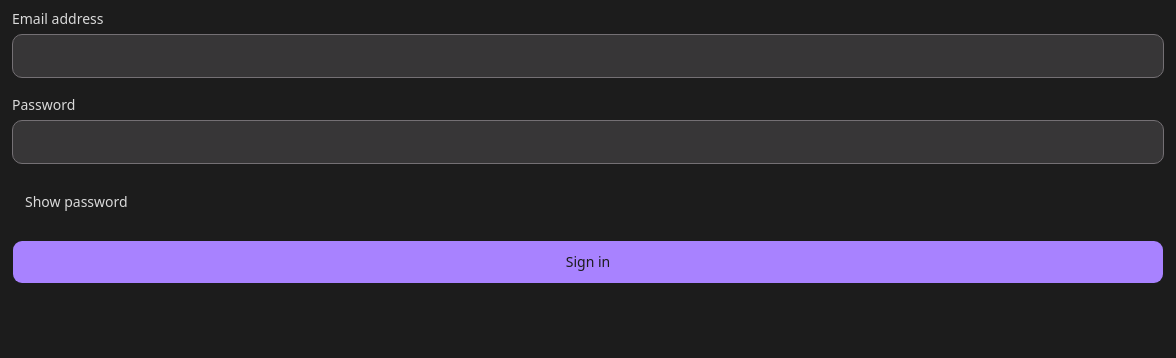
LoginForm › does not disclose authentication-provider details when sign-in fails
The width and height of the screenshot is (1176, 358).
In the field labelled "Email address": (588, 56) [12, 34, 1164, 78], type "manager@bubbletea.test"
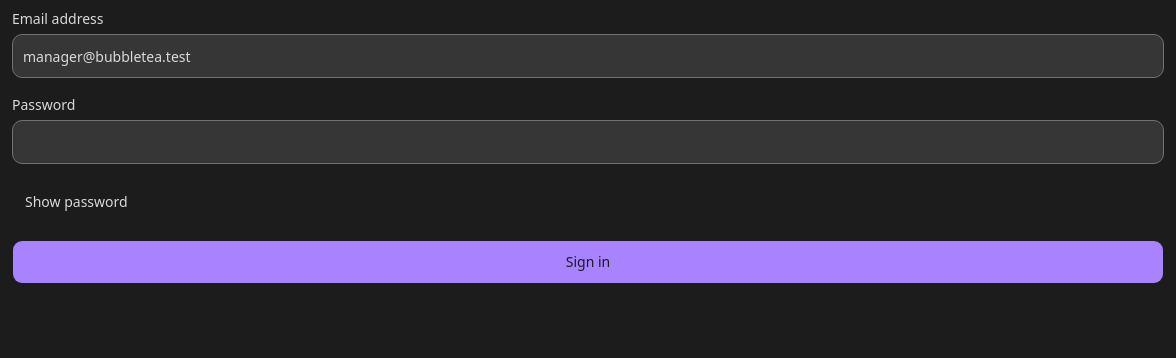
In the password field labelled "Password": (588, 142) [12, 120, 1164, 164], type "incorrect-password"
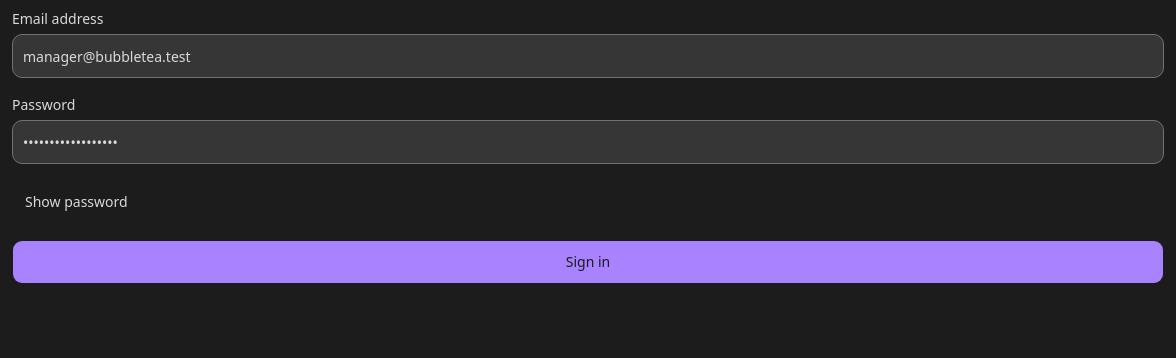
Click the button "Sign in": (588, 262) [12, 240, 1164, 284]
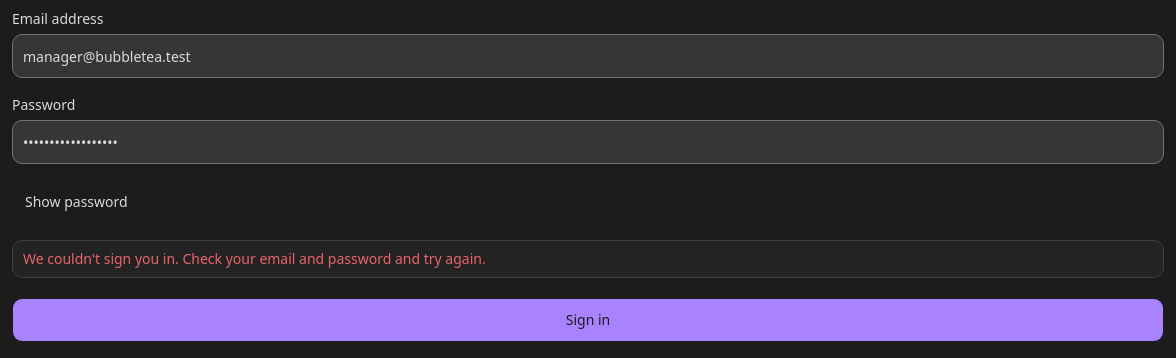
Expected: the message reads "We couldn't sign you in. Check your email and password and try again.", [23, 249, 486, 268]
